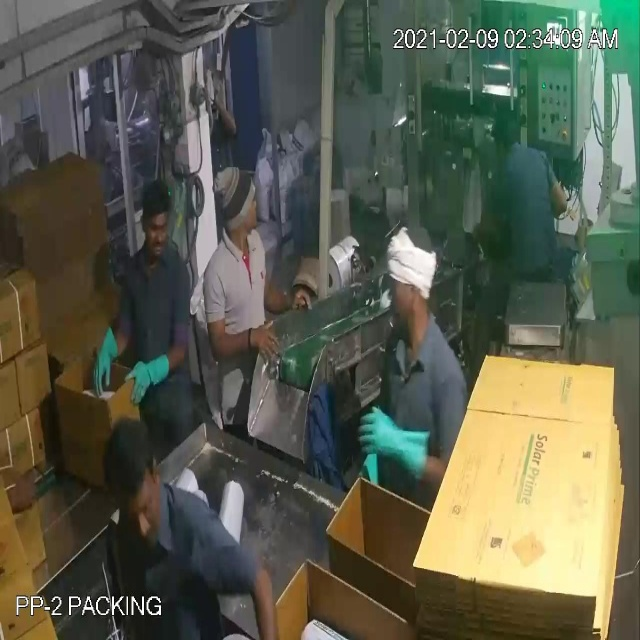Guantes: (348, 388, 430, 492), (77, 311, 121, 403), (125, 348, 185, 404)
Sin_guantes: (188, 293, 284, 380), (250, 265, 317, 322)
